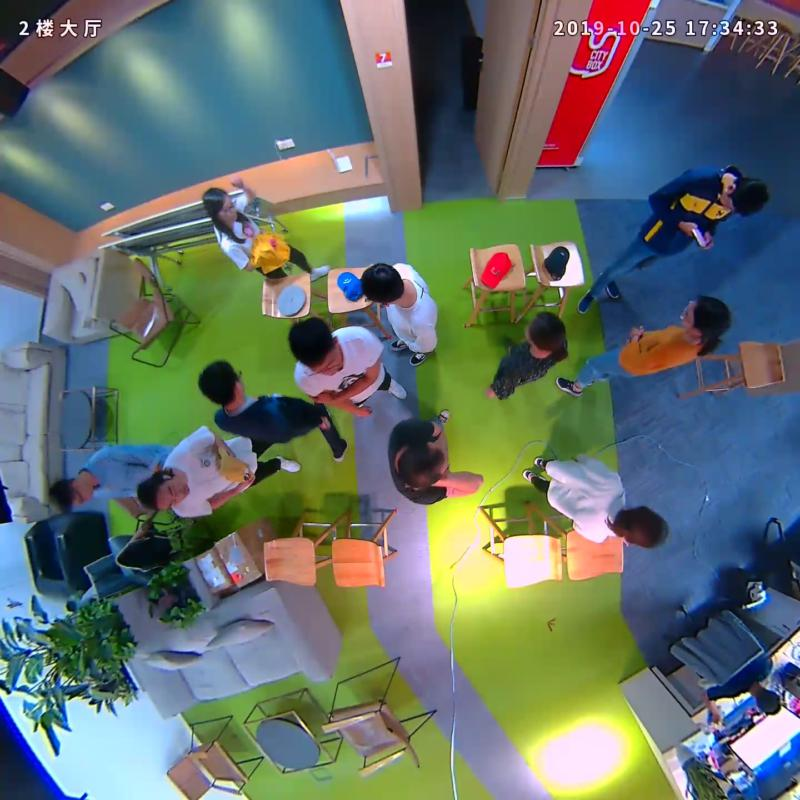head: (287, 314, 341, 374), (397, 443, 449, 488), (197, 358, 244, 407), (615, 506, 668, 548), (718, 177, 770, 219), (360, 262, 407, 307), (137, 472, 189, 511), (682, 296, 731, 336), (523, 311, 566, 356), (49, 475, 94, 512), (202, 187, 237, 222)
